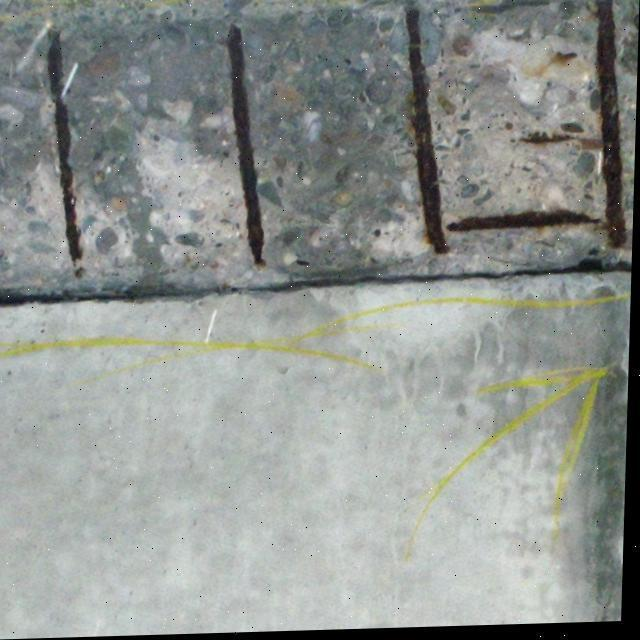D0w0: (2, 2, 629, 317)
